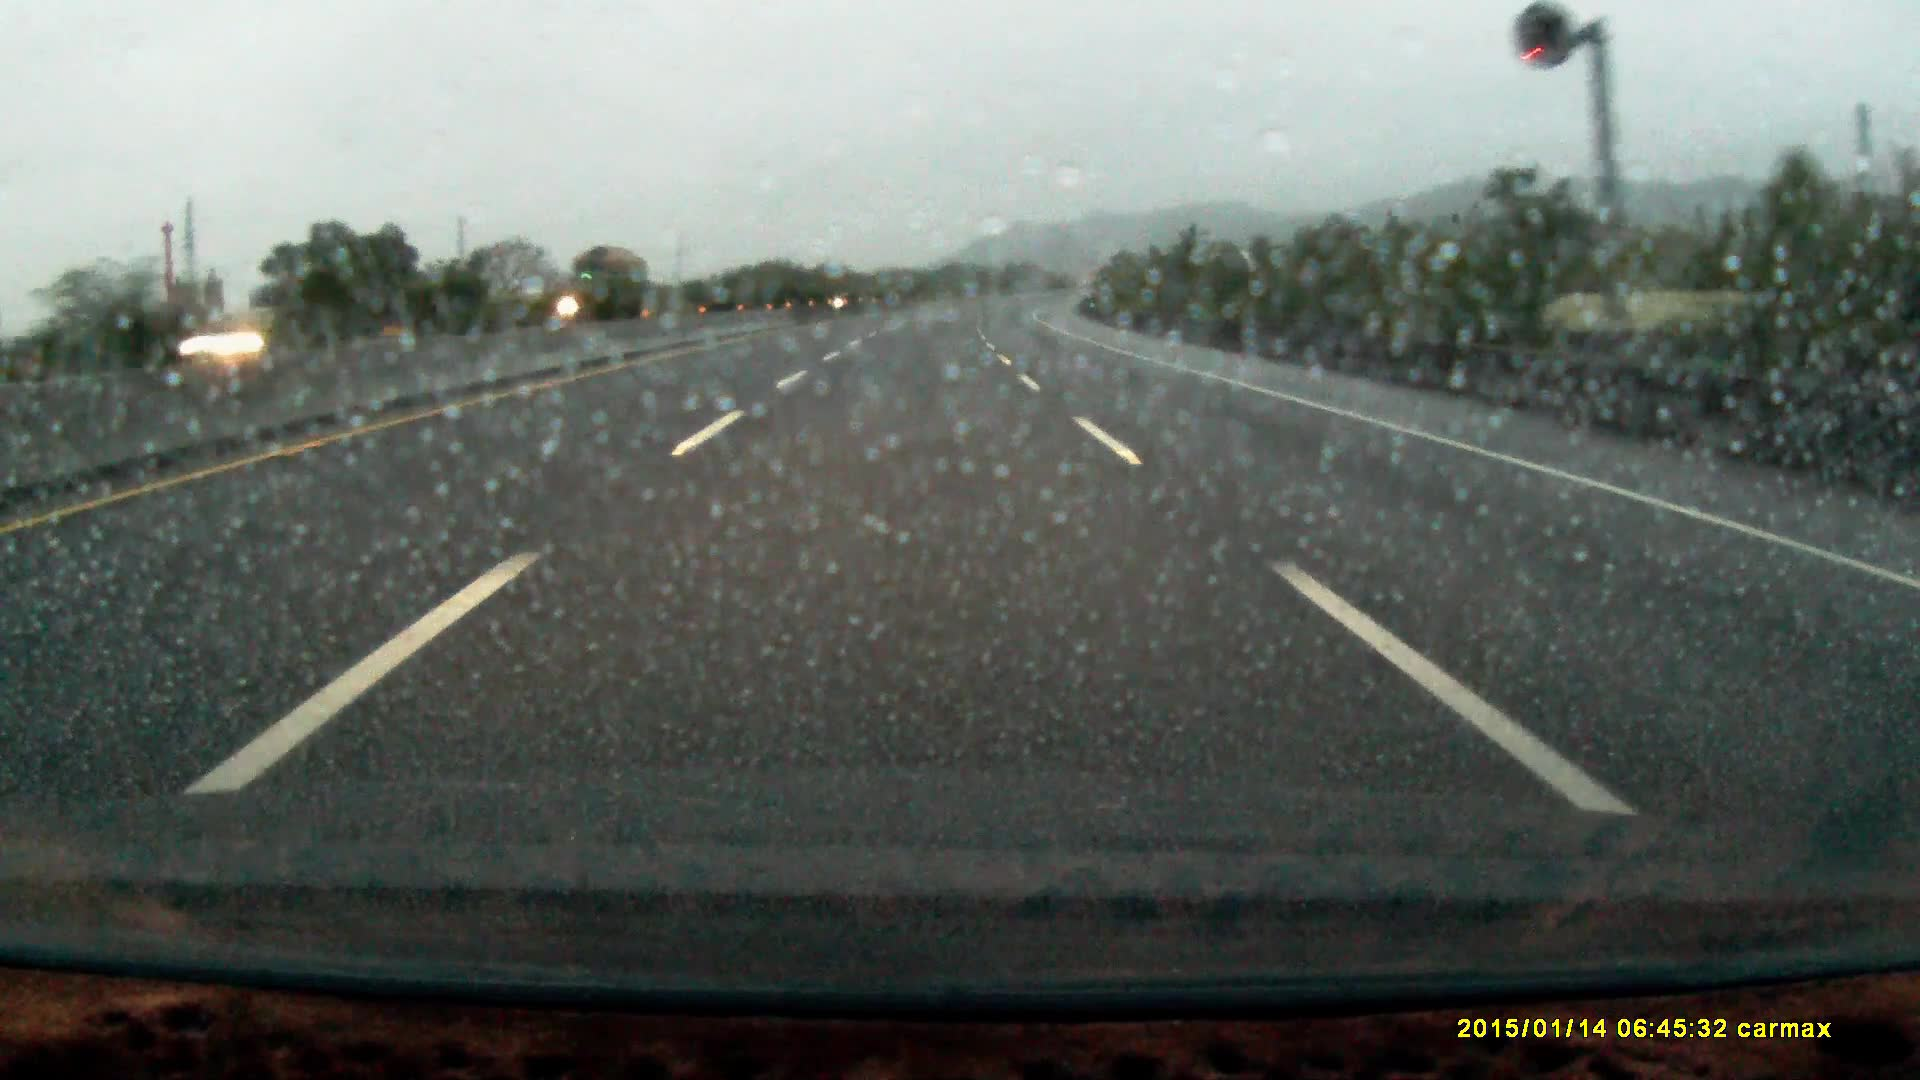vehicle: (182, 309, 339, 371), (558, 244, 651, 320)
